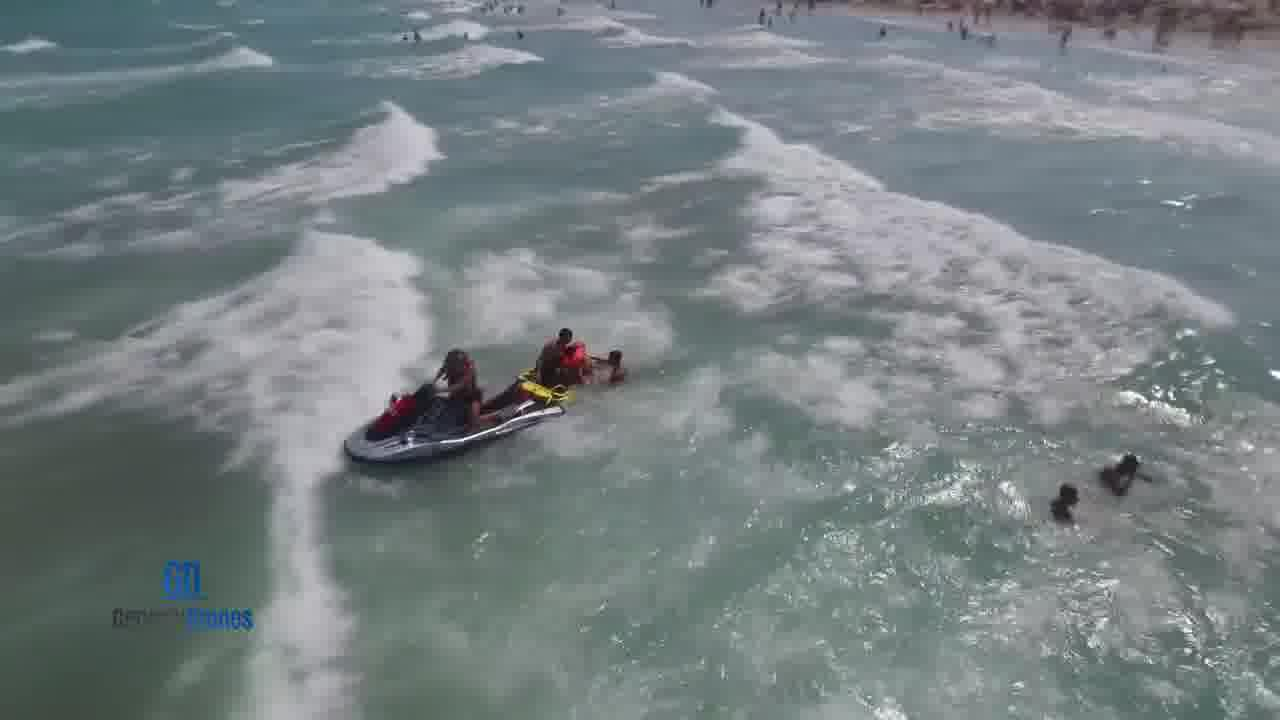human: (1083, 437, 1159, 496), (1030, 470, 1095, 537), (591, 337, 641, 391)
